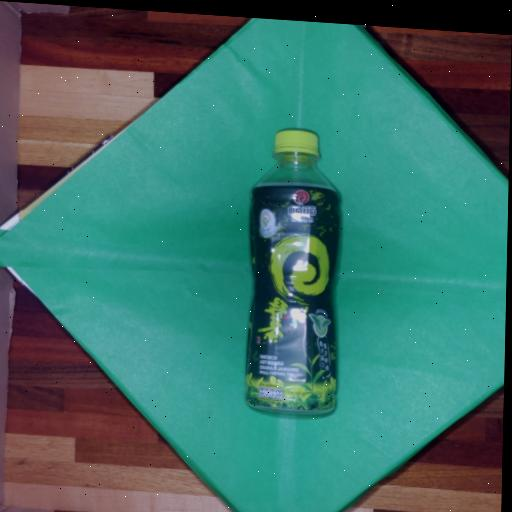bottle: (217, 108, 378, 438)
